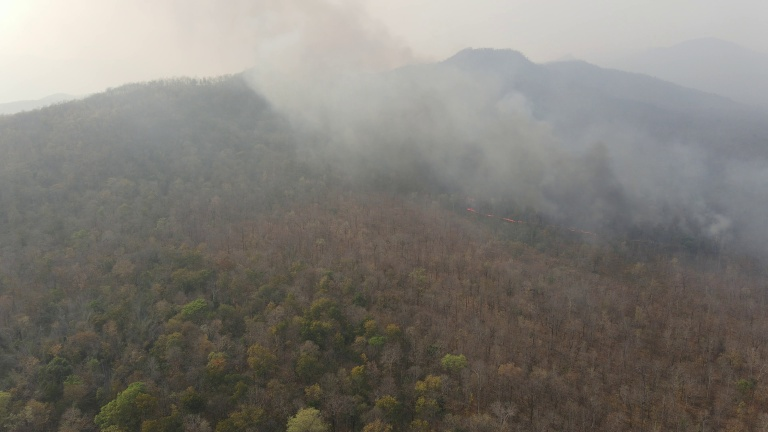fire: (457, 199, 536, 227), (569, 223, 595, 239)
smoke: (170, 1, 581, 210), (585, 119, 768, 245)
